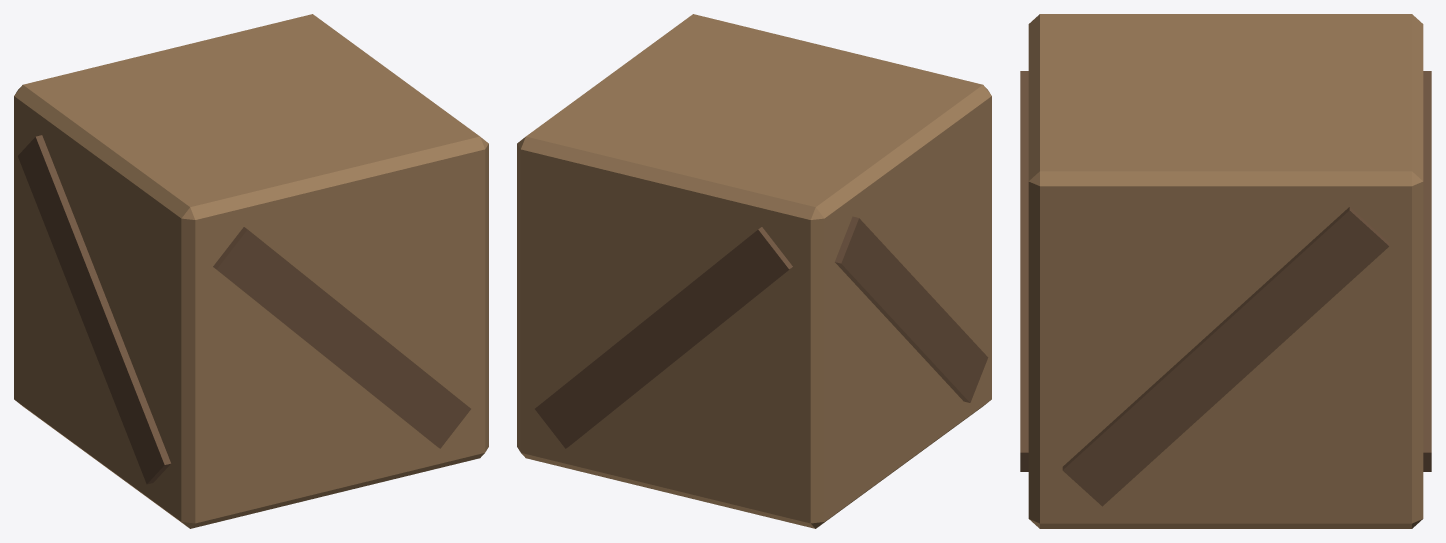
Rendered from crate.glb.
3 views of the same model, side by side, from view 1: azimuth 30°, elevation 25°; view 2: azimuth 150°, elevation 25°; view 3: azimuth 270°, elevation 25° (orthographic). The views are drawn at different scales.
Visible parts, largest first — view 1: crate; view 2: crate; view 3: crate.
Part boxes in pixels (bbox=[...]): crate: bbox=[14, 14, 488, 528]; crate: bbox=[517, 14, 991, 528]; crate: bbox=[1020, 14, 1431, 528].
Bounding box in the file's own units: 0.73 × 0.7 × 0.73.
